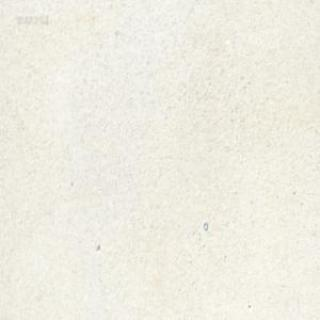Washertrack_idkeyframe: (202, 220, 207, 230)
